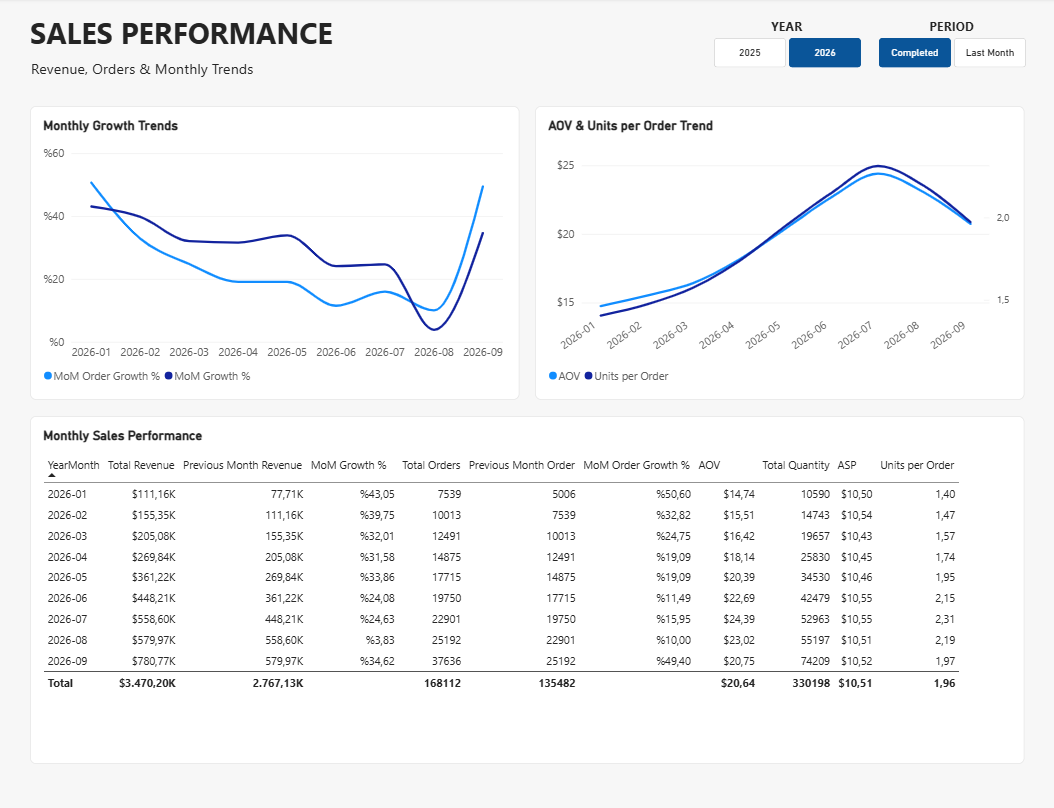

The dashboard page shown, as its layout file describes it:
{"tool":"powerbi","page":{"name":"Sales Performance","canvas":[1366,1050],"ordinal":2},"visuals":[{"type":"tableEx","title":"Monthly Sales Performance","fields":{"Values":["DimDate.YearMonth","_Measures.Total Revenue","_Measures.Previous Month Revenue","_Measures.MoM Growth %","_Measures.Total Orders","_Measures.Previous Month Order","_Measures.MoM Order Growth %","_Measures.AOV","_Measures.Total Quantity","_Measures.ASP","_Measures.Units per Order"]},"box":[40,540,1286,450],"z":0},{"type":"lineChart","title":"Monthly Growth Trends","fields":{"Category":["DimDate.YearMonth"],"Y":["_Measures.MoM Order Growth %","_Measures.MoM Growth %"]},"box":[40,140,633,380],"z":1000},{"type":"lineChart","title":"AOV & Units per Order Trend","fields":{"Category":["DimDate.YearMonth"],"Y":["_Measures.AOV"],"Y2":["_Measures.Units per Order"]},"box":[693,140,633,380],"z":2000},{"type":"advancedSlicerVisual","fields":{"Values":["DimDate.MonthStatus"]},"box":[1138,52,190,38],"z":3000},{"type":"advancedSlicerVisual","fields":{"Values":["DimDate.Year"]},"box":[924,52,190,38],"z":4000},{"type":"textbox","box":[40,20,720,70],"z":5000},{"type":"textbox","box":[938.3,25.4,160,24],"z":6000},{"type":"textbox","box":[1152.7,25.4,160,24],"z":7000},{"type":"textbox","box":[42,78.4,450,25],"z":8000}]}

Visuals, with their boxes in screenshot pixels (x1, y1, x2, y2), scaled from the page's 1366x1050 canvas onto the 1054x808 screenshot:
"Monthly Sales Performance" tableEx: 31,416,1023,762
"Monthly Growth Trends" lineChart: 31,108,519,400
"AOV & Units per Order Trend" lineChart: 535,108,1023,400
advancedSlicerVisual - DimDate.MonthStatus: 878,40,1025,69
advancedSlicerVisual - DimDate.Year: 713,40,860,69
textbox: 31,15,586,69
textbox: 724,20,847,38
textbox: 889,20,1013,38
textbox: 32,60,380,80
